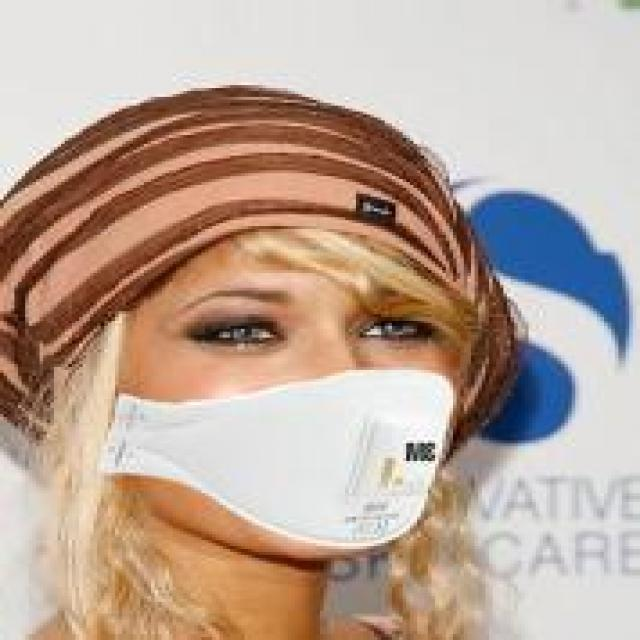mask: (61, 114, 518, 610)
